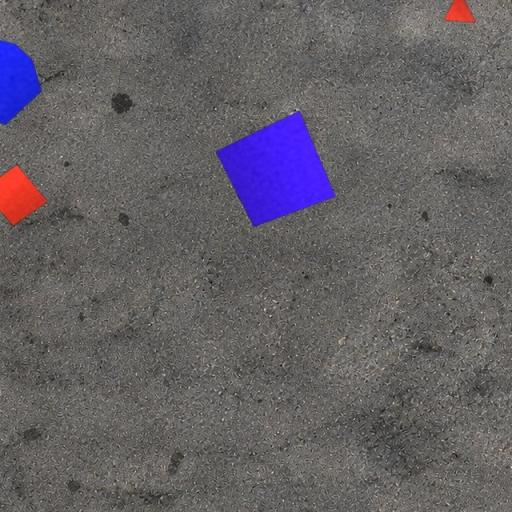BLUE_SQUARE: (215, 110, 336, 227)
RED_SQUARE: (0, 164, 49, 226)
